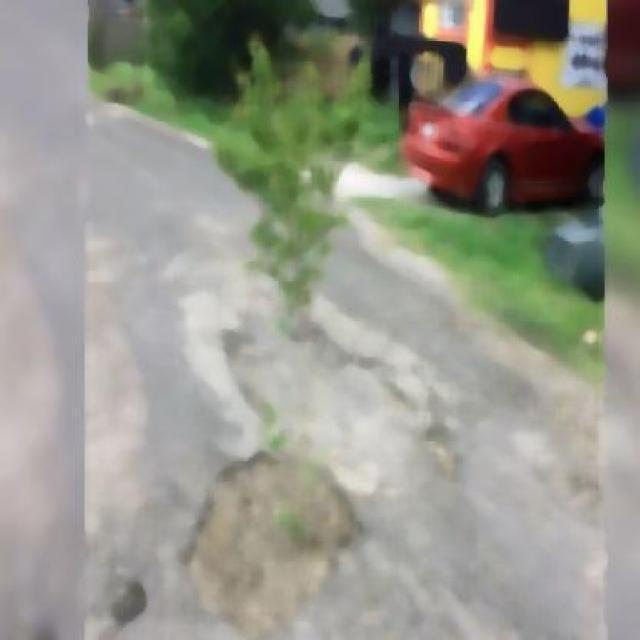pothole: (195, 476, 346, 613)
